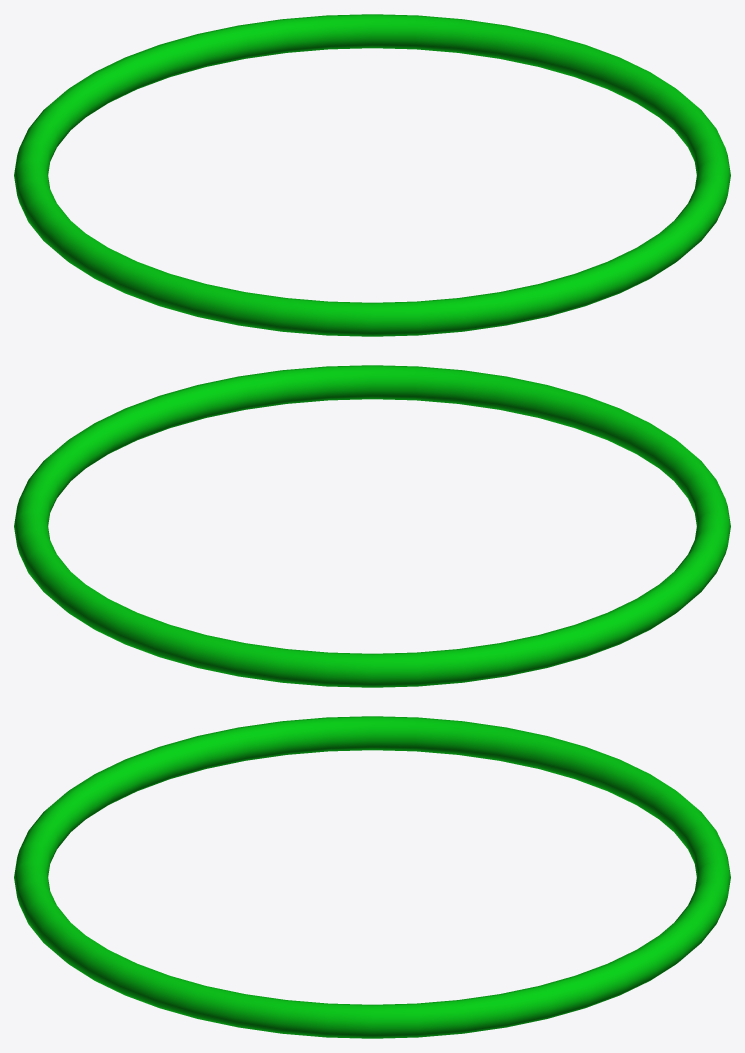
The model's file is rotateGizmoGreen.obj.
3 views of the same model, one above another, from view 1: azimuth 30°, elevation 25°; view 2: azimuth 150°, elevation 25°; view 3: azimuth 270°, elevation 25° (orthographic).
Parts seen in each view (by area): view 1: Torus; view 2: Torus; view 3: Torus.
Boxes of the visible parts, box(x1,y1,x2,y2) form: Torus: box(14, 14, 730, 336); Torus: box(14, 365, 730, 687); Torus: box(14, 716, 730, 1038).
Bounding box in the file's own units: 0.525 × 0.025 × 0.525.
